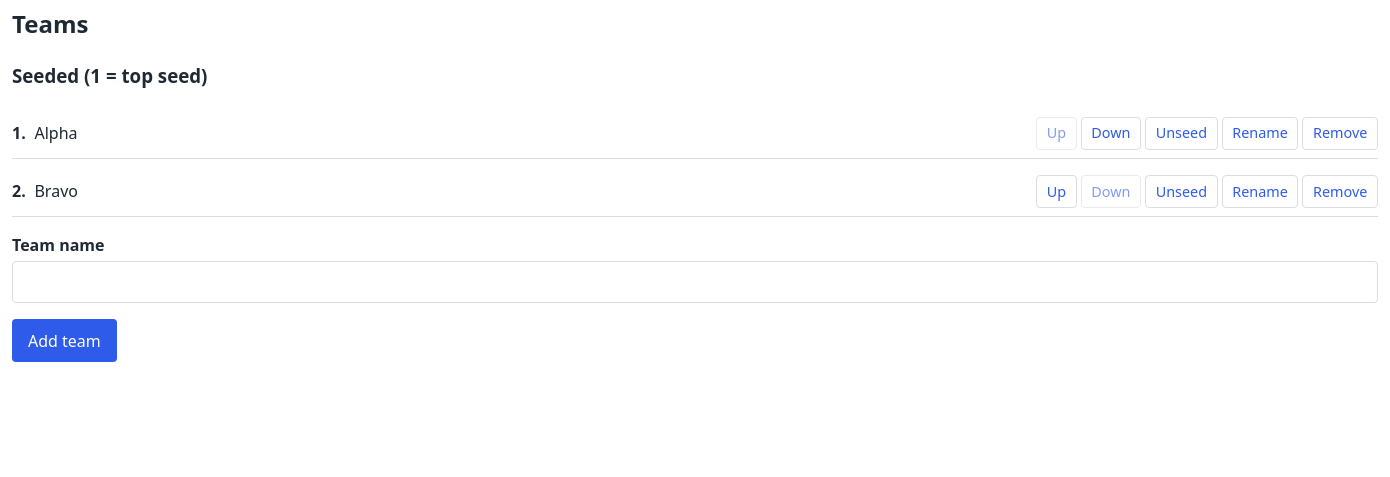
Test: TeamManager › unseeds a team
Click the button with aria-label "Unseed Alpha".
click(1181, 133)  # box [1145, 117, 1218, 150]
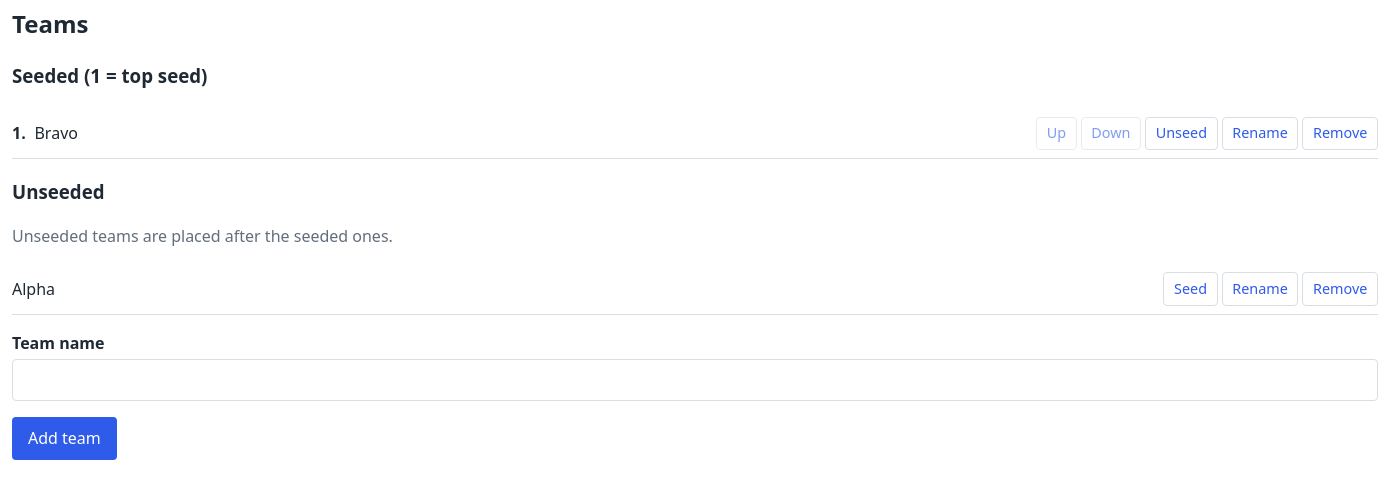
Now the list named "Unseeded" is shown, box [12, 264, 1378, 314]
